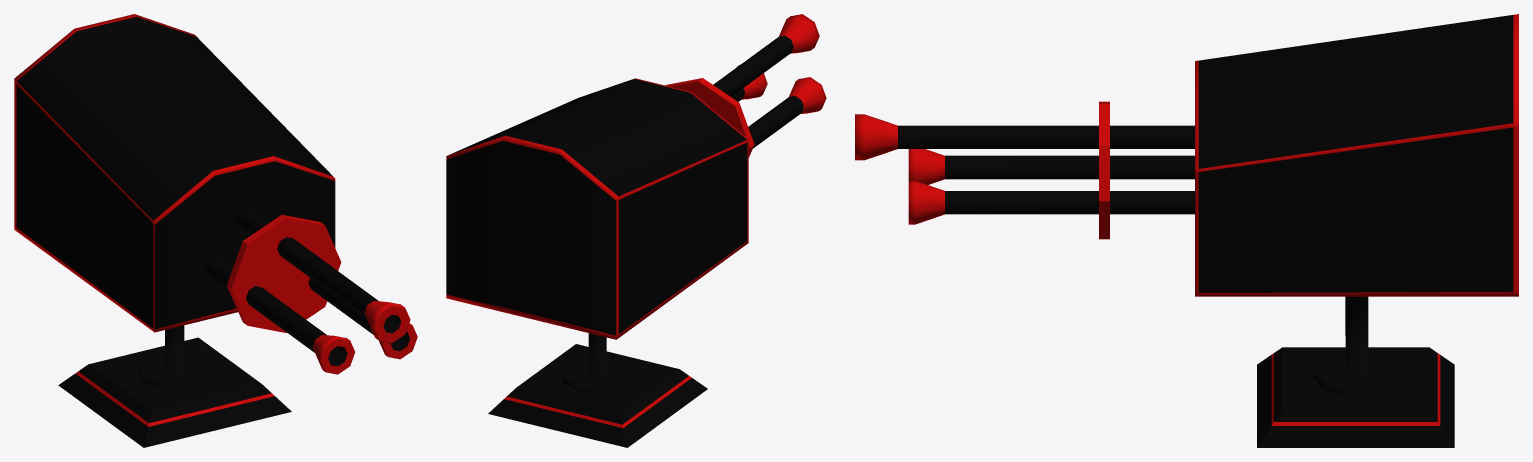
File: Turret.obj
The picture shows the model from 3 angles, left to right: view 1: azimuth 30°, elevation 25°; view 2: azimuth 150°, elevation 25°; view 3: azimuth 270°, elevation 25°; orthographic projection. The views are drawn at different scales.
Parts seen in each view (by area): view 1: Base_Cube; view 2: Base_Cube; view 3: Base_Cube.
Part boxes in pixels (x1,y1,x2,y2): Base_Cube: (14,14,417,447); Base_Cube: (446,14,826,447); Base_Cube: (855,14,1518,447).
Size of the model in its own units: 0.6314 by 1.09 by 1.74.
